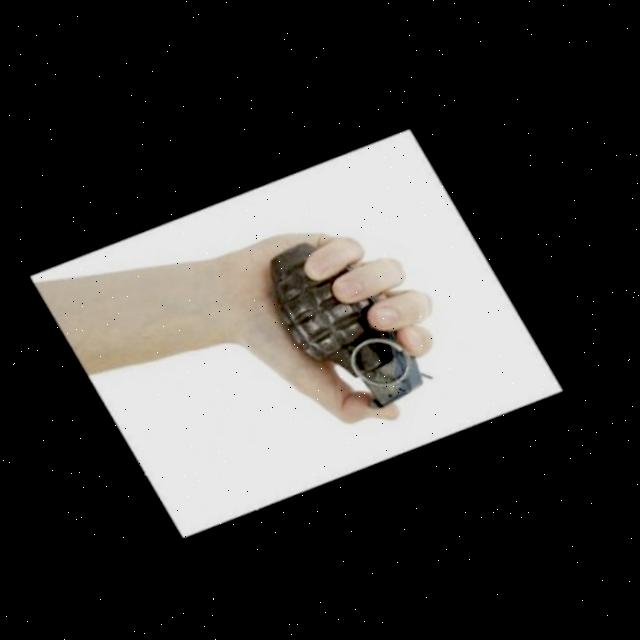grenade: (215, 220, 483, 435)
